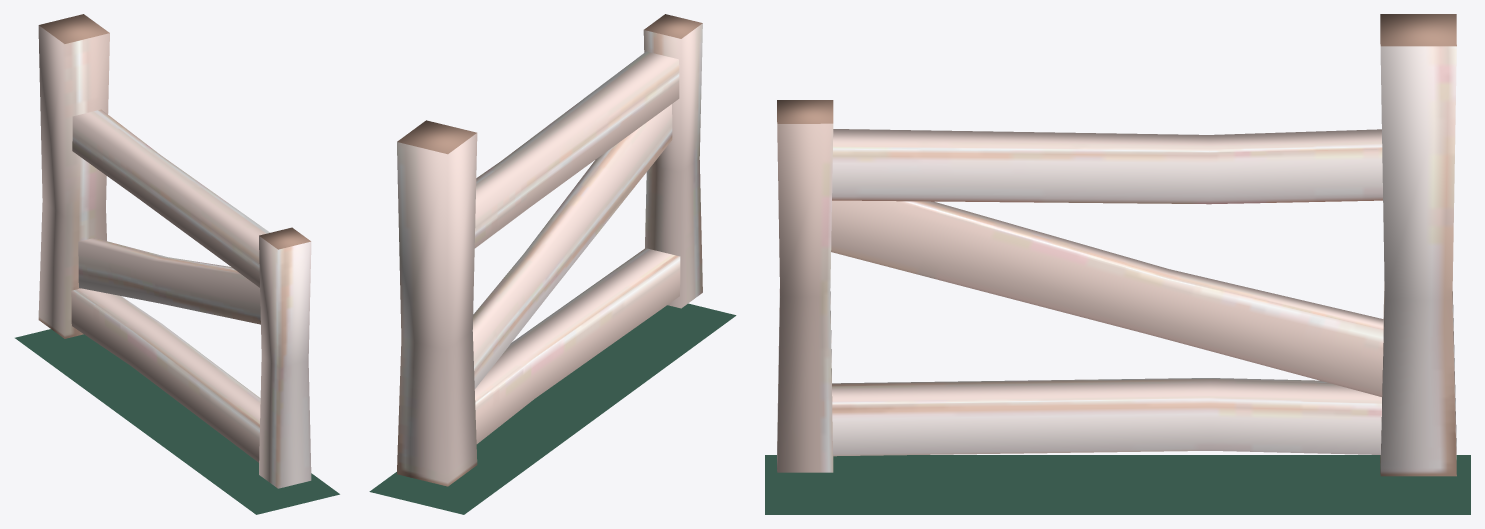
File: FarmFenceGate01.fbx
3 renders of one model, left to right at view 1: azimuth 30°, elevation 25°; view 2: azimuth 150°, elevation 25°; view 3: azimuth 270°, elevation 25°, orthographic. The views are drawn at different scales.
Parts seen in each view (by area): view 1: FarmFenceGate01, FarmFenceShadow; view 2: FarmFenceGate01, FarmFenceShadow; view 3: FarmFenceGate01, FarmFenceShadow.
Part boxes in pixels (box(x1,y1,x2,y2)): FarmFenceGate01: box(38, 14, 311, 488); FarmFenceShadow: box(15, 329, 339, 514); FarmFenceGate01: box(397, 14, 702, 486); FarmFenceShadow: box(369, 303, 736, 514); FarmFenceGate01: box(777, 14, 1456, 476); FarmFenceShadow: box(765, 455, 1470, 514).
Size of the model in its own units: 0.401 by 1.42 by 2.
2 materials, 1 textured.
